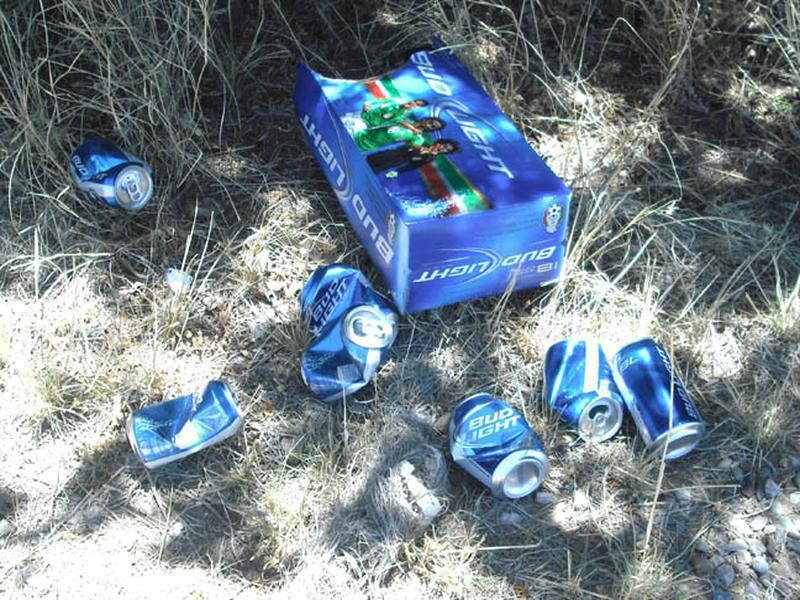can: (122, 376, 248, 473), (614, 336, 708, 462), (443, 391, 550, 501), (540, 335, 626, 447), (302, 305, 394, 407), (66, 134, 158, 210)
cardboard: (289, 41, 579, 312)
